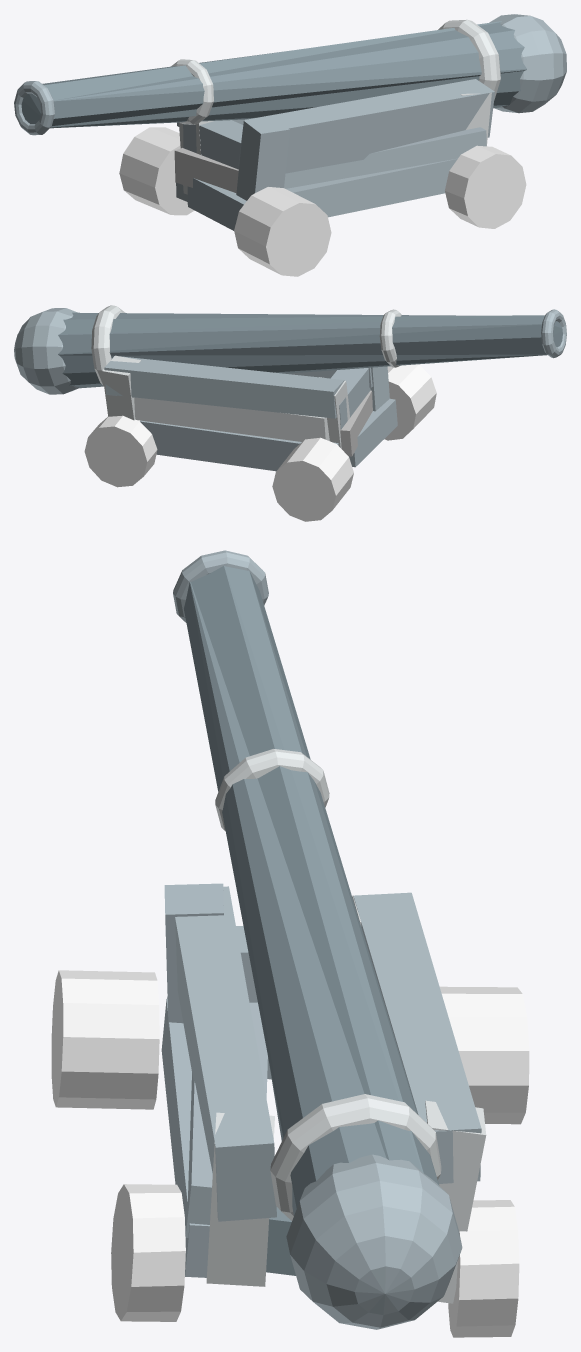
Rendered from scene_gghP5XqiGc.glb.
3 renders of one model, top to bottom at view 1: azimuth 30°, elevation 25°; view 2: azimuth 150°, elevation 25°; view 3: azimuth 270°, elevation 25°, orthographic. The views are drawn at different scales.
Parts seen in each view (by area): view 1: group551664938, group715540933, group329596770, group740362597, group174487805, group502702331, group1768173857, group1217481669, group766481534, group1920274017, group678711798, group723707509 (+4 smaller); view 2: group551664938, group780334861, group502702331, group485649520, group1314411094, group1741607449, group1768173857, group329596770, group723707509, group1472791011, group366156855, group1920274017 (+6 smaller); view 3: group551664938, group1768173857, group715540933, group329596770, group780334861, group740362597, group502702331, group1741607449, group366156855, group174487805, group1834928704, group1472791011 (+5 smaller).
Boxes of the visible parts, x1=… form: group551664938: x1=21, y1=21, x2=526, y2=128; group715540933: x1=238, y1=79, x2=494, y2=173; group329596770: x1=234, y1=187, x2=331, y2=276; group740362597: x1=445, y1=145, x2=526, y2=228; group174487805: x1=286, y1=158, x2=457, y2=217; group502702331: x1=119, y1=127, x2=194, y2=215; group1768173857: x1=489, y1=14, x2=566, y2=113; group1217481669: x1=284, y1=127, x2=486, y2=188; group766481534: x1=236, y1=116, x2=289, y2=200; group1920274017: x1=183, y1=120, x2=243, y2=169; group678711798: x1=174, y1=148, x2=238, y2=193; group723707509: x1=187, y1=178, x2=246, y2=230; group551664938: x1=58, y1=312, x2=562, y2=388; group780334861: x1=104, y1=356, x2=344, y2=418; group502702331: x1=272, y1=437, x2=353, y2=521; group485649520: x1=134, y1=397, x2=329, y2=441; group1314411094: x1=140, y1=420, x2=338, y2=471; group1741607449: x1=84, y1=415, x2=157, y2=487; group1768173857: x1=14, y1=308, x2=78, y2=394; group329596770: x1=384, y1=364, x2=436, y2=440; group723707509: x1=349, y1=398, x2=397, y2=467; group1472791011: x1=102, y1=355, x2=141, y2=420; group366156855: x1=91, y1=305, x2=125, y2=385; group1920274017: x1=330, y1=368, x2=370, y2=429; group551664938: x1=184, y1=566, x2=439, y2=1215; group1768173857: x1=286, y1=1154, x2=462, y2=1329; group715540933: x1=175, y1=886, x2=276, y2=1221; group329596770: x1=51, y1=970, x2=159, y2=1109; group780334861: x1=353, y1=892, x2=481, y2=1177; group740362597: x1=111, y1=1184, x2=185, y2=1321; group502702331: x1=439, y1=986, x2=529, y2=1124; group1741607449: x1=448, y1=1200, x2=519, y2=1337; group366156855: x1=270, y1=1094, x2=441, y2=1220; group174487805: x1=161, y1=998, x2=209, y2=1277; group1834928704: x1=206, y1=1112, x2=274, y2=1286; group1472791011: x1=425, y1=1100, x2=486, y2=1303.
Size of the model in its own units: 0.5941 by 0.2387 by 0.2437.
